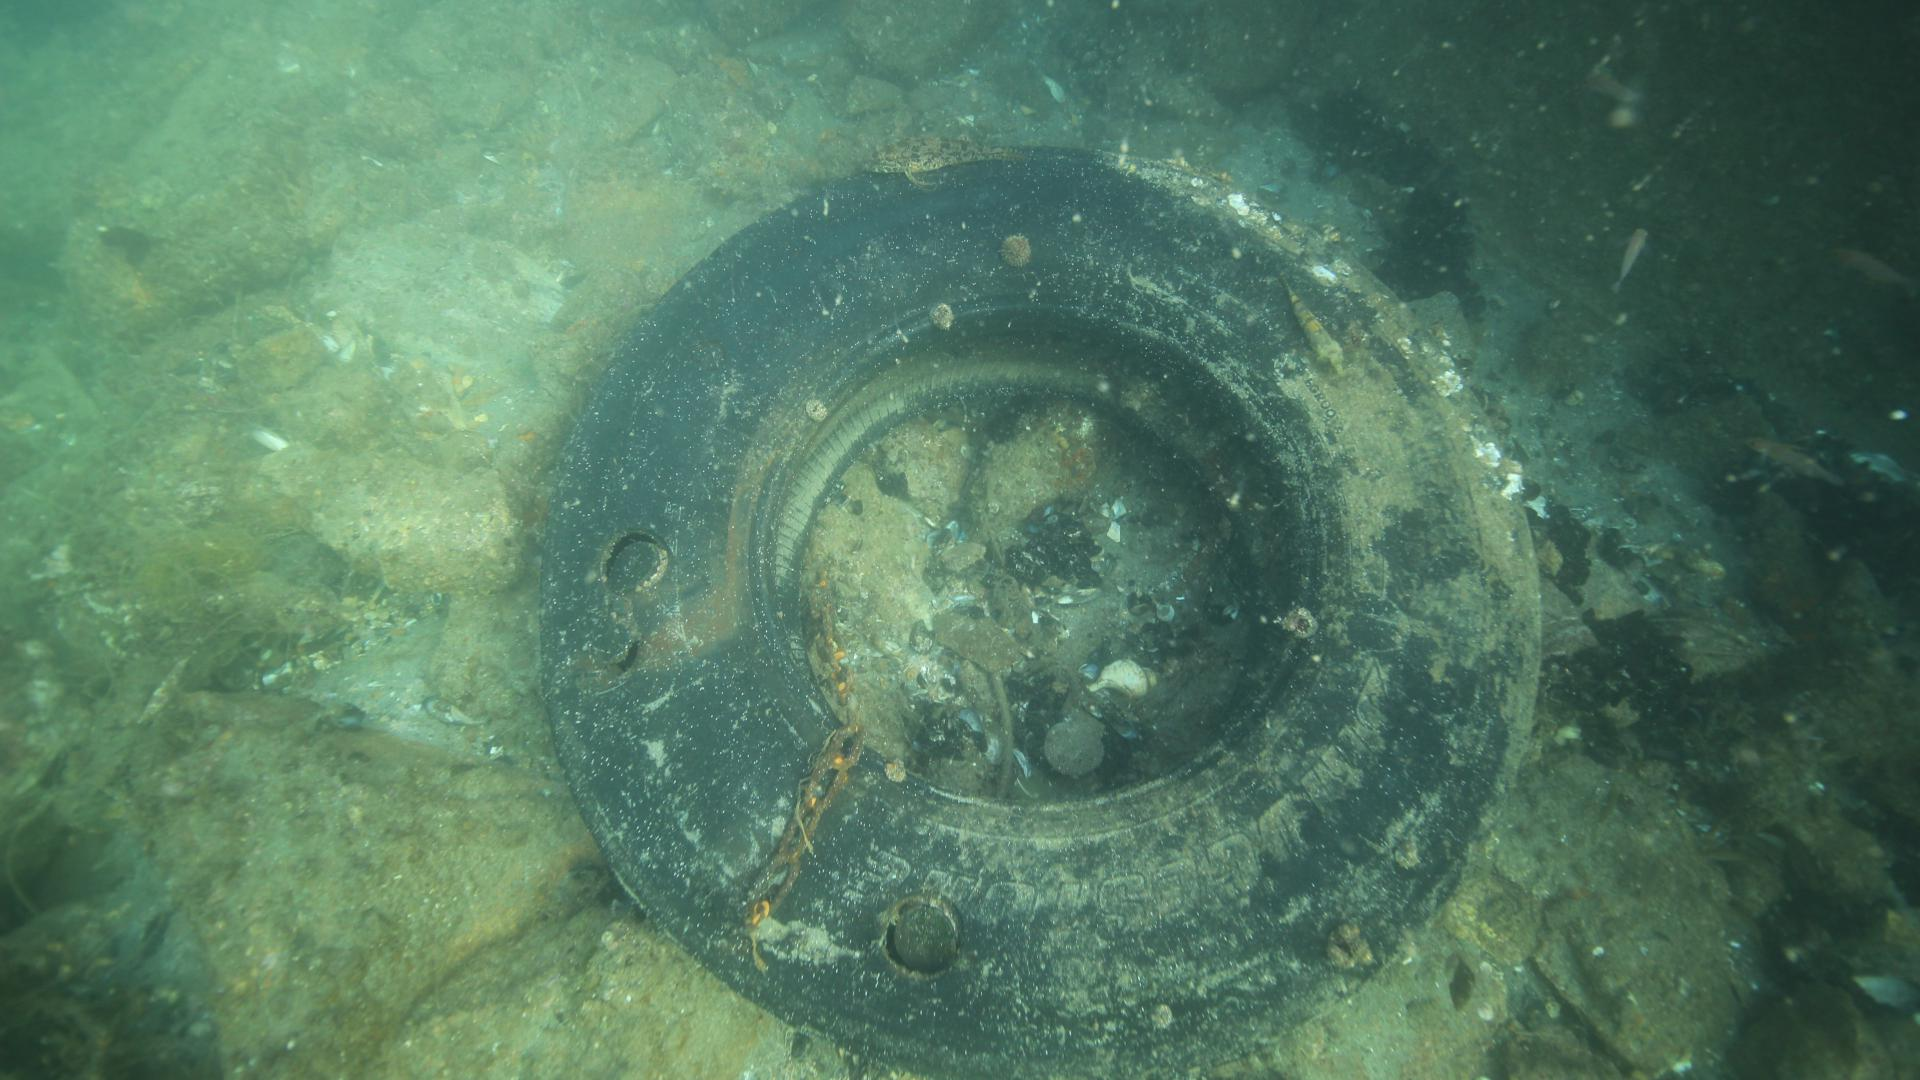tire: (531, 150, 1542, 1073)
